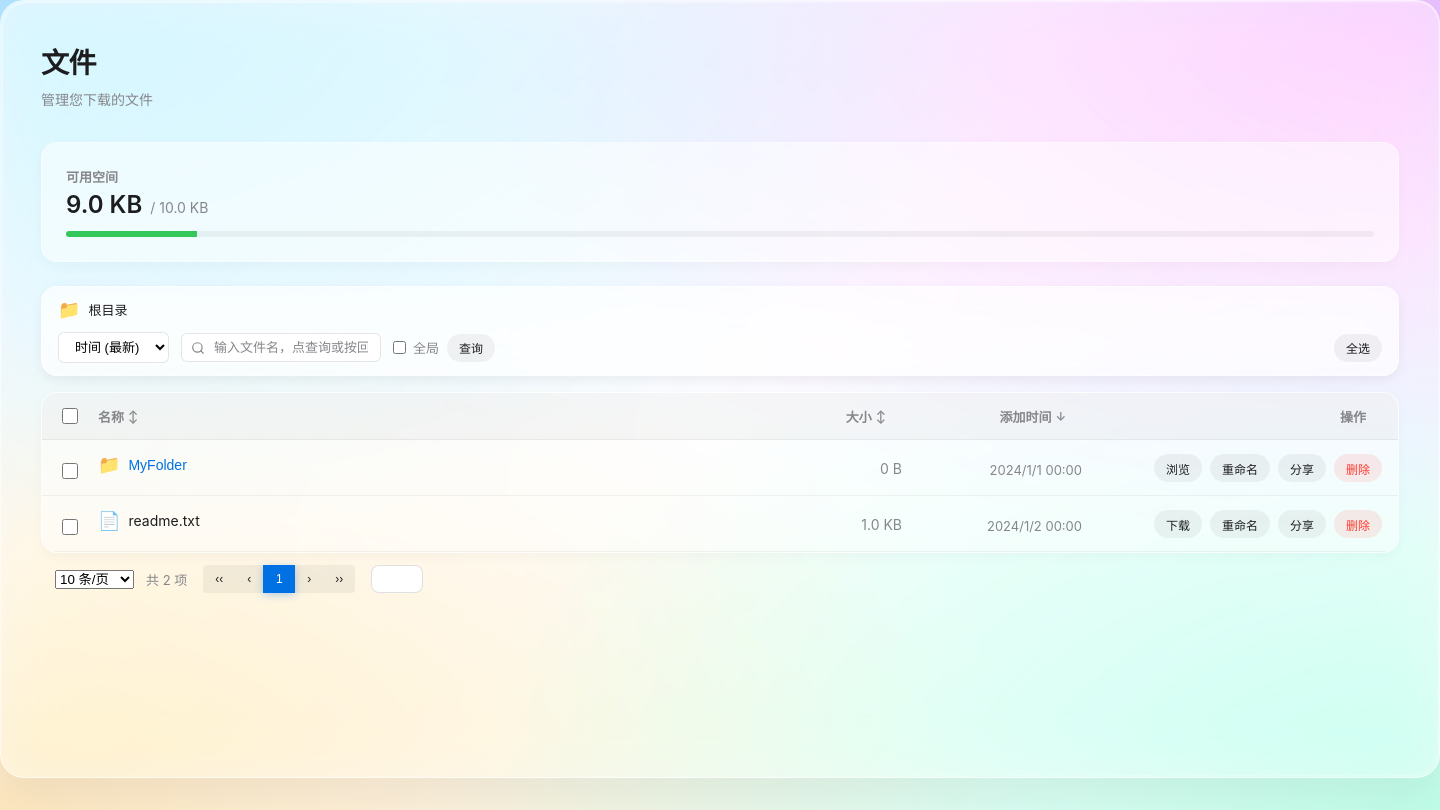
Test: Folder in-page browsing › clicking a folder shows folder contents with breadcrumb
Click the button "MyFolder" at (158, 464), box [128,456,187,472]
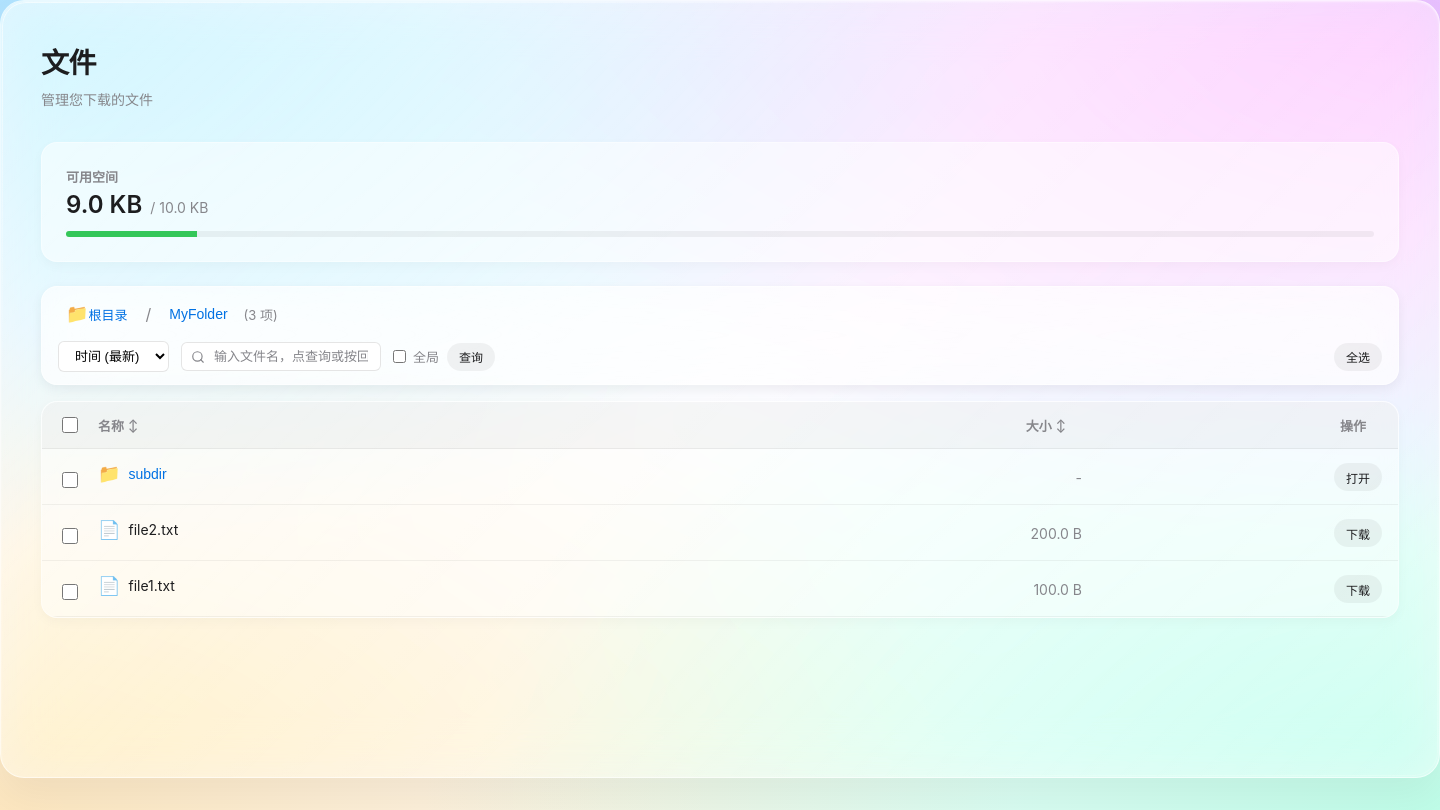
Result: the button "📁根目录" is shown at [58,299,136,329]
Result: the text "file1.txt" is shown at [128,577,175,594]
Result: the text "file2.txt" is shown at [128,521,178,538]
